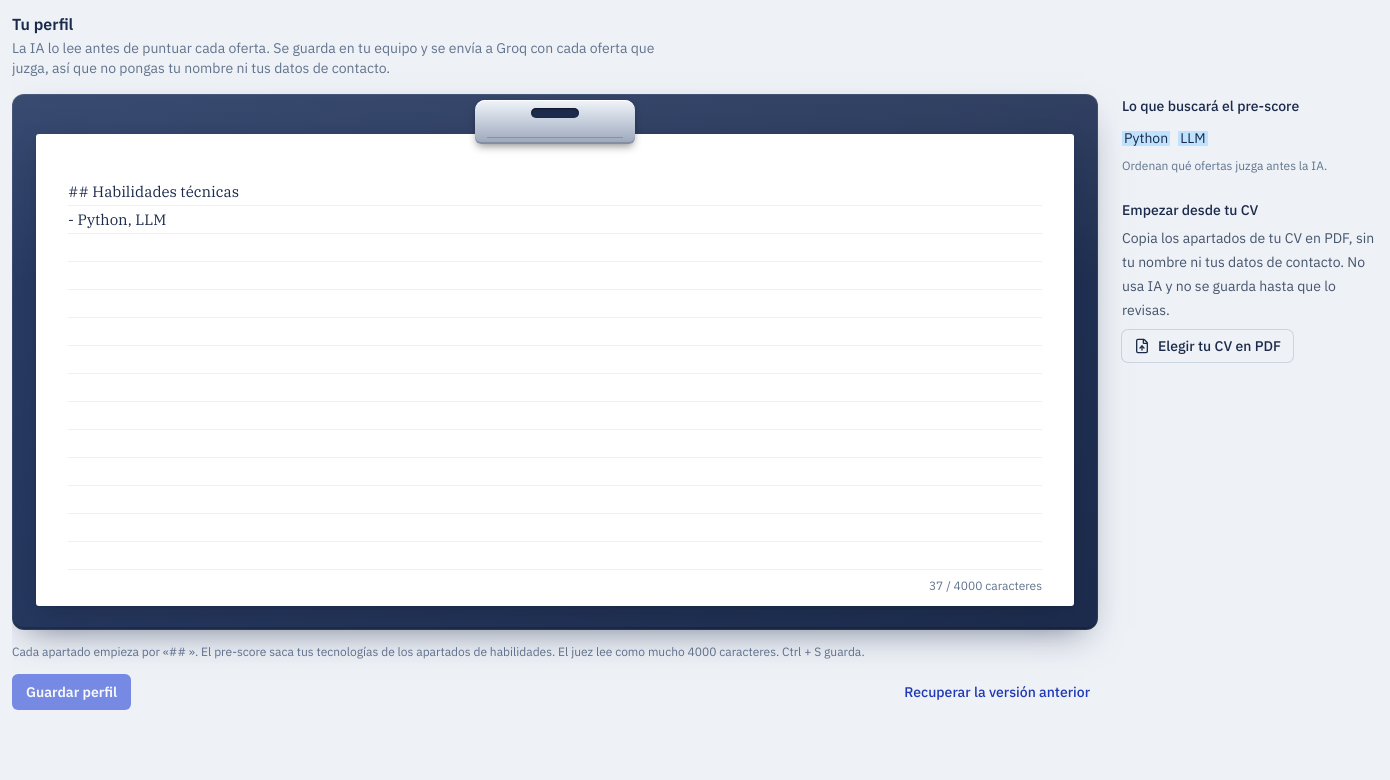
Scenario: ProfileEditor › recupera la versión anterior en el editor, sin guardarla
What coordinates should you click on to do the following:
click the button "Recuperar la versión anterior"
I would click on:
 (997, 692)
Its box is x1=896 y1=674 x2=1098 y2=710.
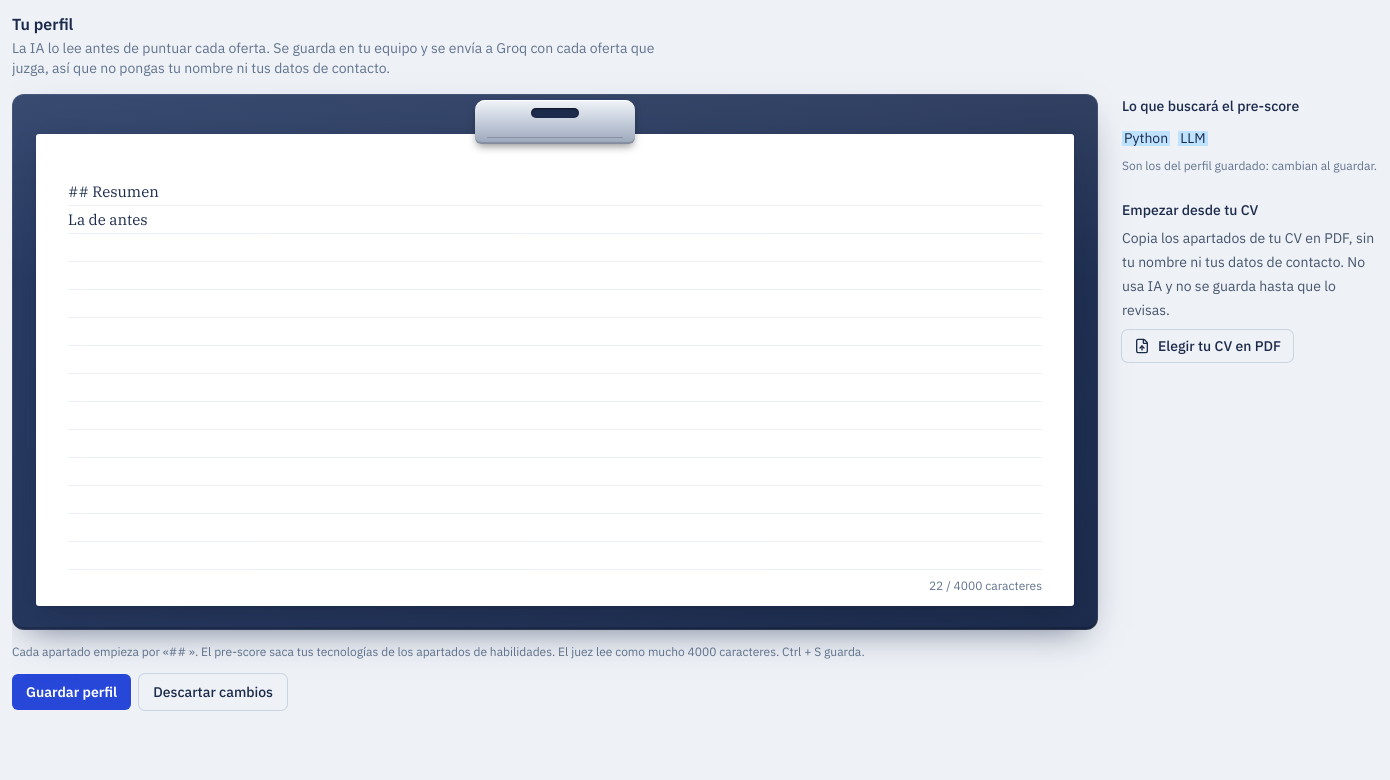
Check: the button "Descartar cambios" is shown, box x1=139 y1=674 x2=287 y2=710
